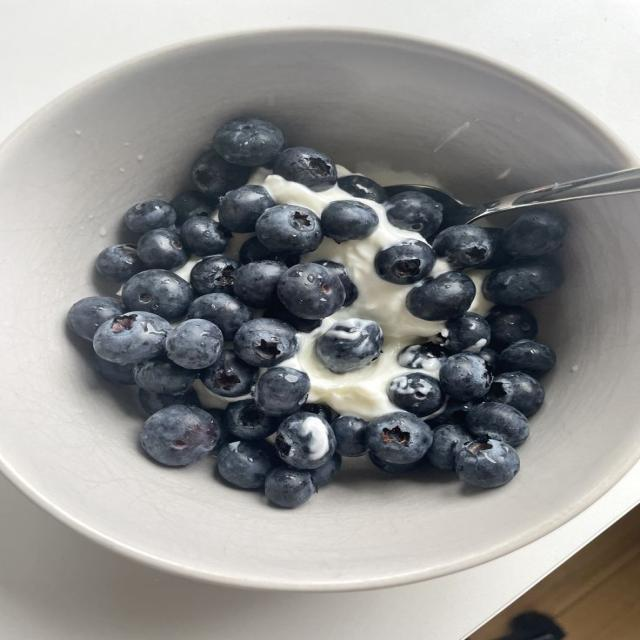blueberry: (140, 405, 219, 465), (94, 312, 171, 364), (278, 263, 345, 319), (483, 259, 563, 305), (122, 269, 193, 320), (316, 319, 383, 373), (214, 117, 285, 167), (367, 412, 432, 463), (276, 413, 335, 469), (256, 205, 323, 254), (407, 272, 475, 320), (502, 209, 566, 258), (234, 318, 297, 367), (188, 293, 252, 341), (456, 439, 519, 487), (165, 319, 223, 369), (192, 151, 251, 198), (274, 147, 337, 191), (466, 402, 529, 446), (374, 239, 435, 284), (218, 442, 276, 489), (254, 367, 310, 415), (200, 350, 257, 397), (219, 185, 275, 232), (486, 372, 544, 417), (434, 225, 493, 268), (386, 192, 442, 237), (387, 372, 444, 416), (67, 297, 125, 340), (134, 356, 197, 395), (234, 261, 286, 308), (321, 201, 379, 243), (440, 353, 491, 400), (223, 400, 279, 439), (265, 467, 316, 508), (487, 306, 538, 347), (498, 340, 555, 376), (138, 229, 189, 269), (426, 425, 471, 470), (315, 260, 358, 306), (190, 256, 239, 296), (180, 216, 230, 255), (96, 244, 146, 282), (444, 313, 490, 353), (265, 301, 321, 333), (239, 237, 299, 266), (125, 200, 176, 234), (171, 191, 215, 226), (427, 398, 478, 428), (206, 408, 238, 455), (139, 389, 199, 414), (332, 415, 367, 456), (338, 175, 388, 203), (479, 228, 513, 269), (398, 342, 446, 370), (94, 355, 134, 384), (310, 453, 341, 487), (369, 452, 419, 473), (205, 408, 225, 448), (300, 404, 333, 423), (477, 348, 498, 369)
